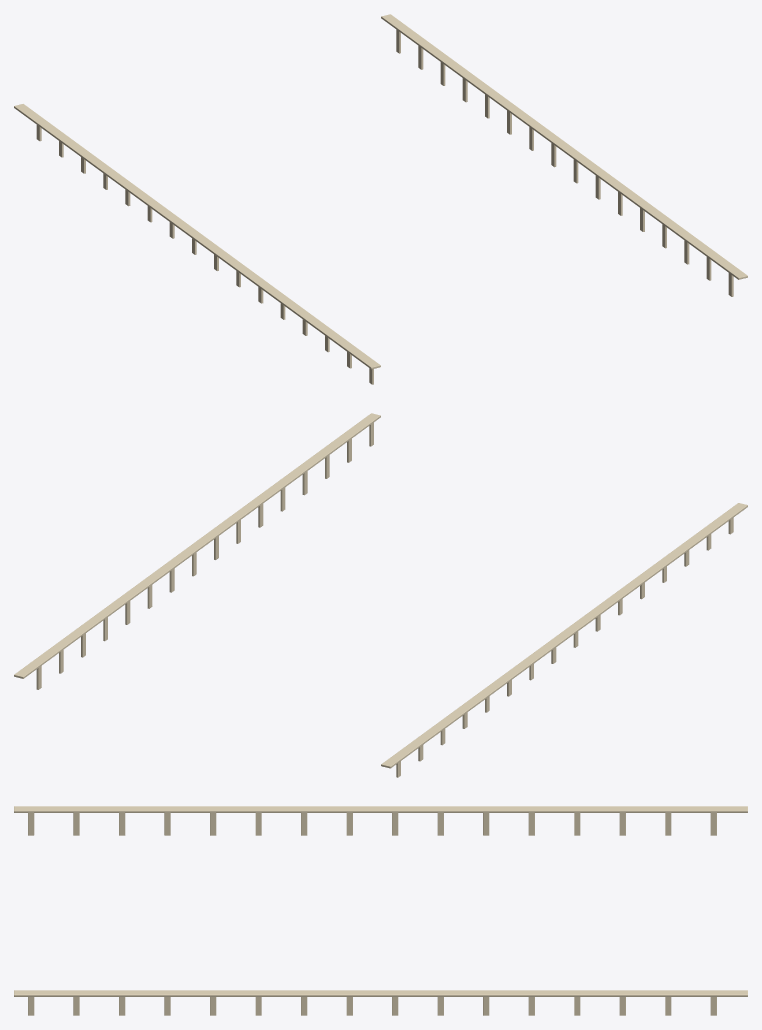
File: ArenaWall_Trim.fbx
3 renders of one model, top to bottom at view 1: azimuth 30°, elevation 25°; view 2: azimuth 150°, elevation 25°; view 3: azimuth 270°, elevation 25°, orthographic. The views are drawn at different scales.
Visible parts, largest first — view 1: ArenaWallCap-1.001; view 2: ArenaWallCap-1.001; view 3: ArenaWallCap-1.001.
Boxes of the visible parts, x1,y1,x2,y2 form: ArenaWallCap-1.001: [14, 14, 747, 384]; ArenaWallCap-1.001: [14, 413, 747, 777]; ArenaWallCap-1.001: [14, 806, 747, 1015].
Bounding box in the file's own units: 15700 × 960 × 25800.
